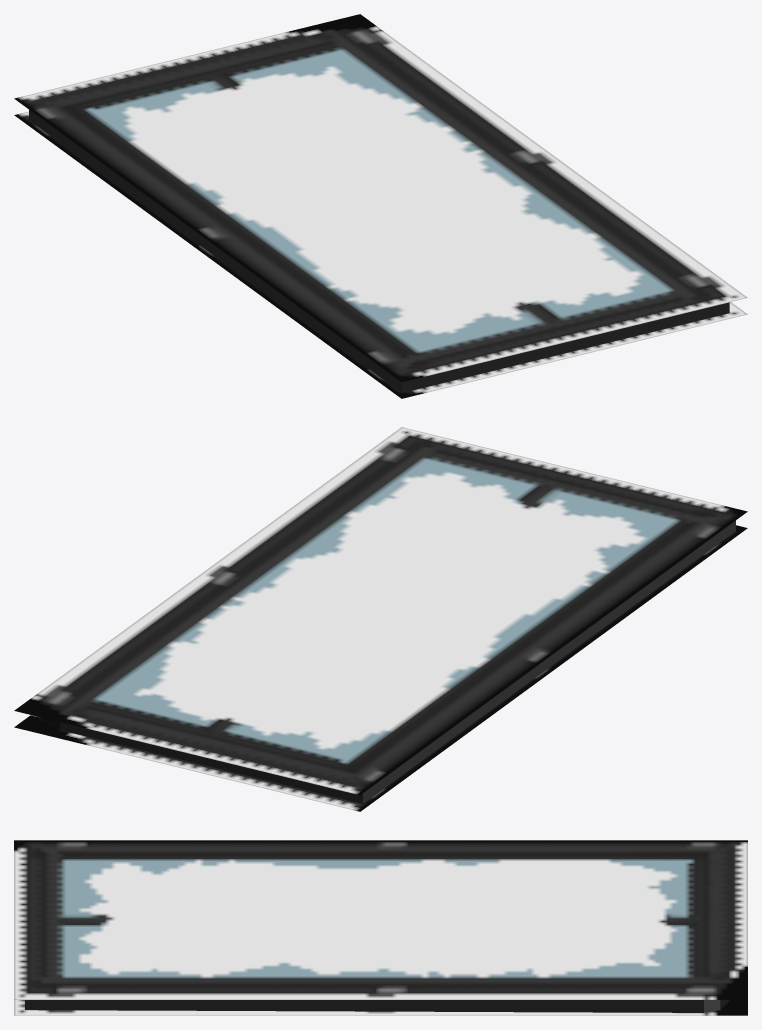
The model's file is pz_native_fixtures_windows_metal_69_frame.obj.
3 renders of one model, top to bottom at view 1: azimuth 30°, elevation 25°; view 2: azimuth 150°, elevation 25°; view 3: azimuth 270°, elevation 25°, orthographic. The views are drawn at different scales.
Parts seen in each view (by area): view 1: pz_native_fixtures_windows_metal_69_frame; view 2: pz_native_fixtures_windows_metal_69_frame; view 3: pz_native_fixtures_windows_metal_69_frame.
Boxes of the visible parts, box(x1,y1,x2,y2) form: pz_native_fixtures_windows_metal_69_frame: box(14, 14, 747, 398); pz_native_fixtures_windows_metal_69_frame: box(14, 427, 747, 811); pz_native_fixtures_windows_metal_69_frame: box(14, 840, 747, 1015).
Bounding box in the file's own units: 0.875 × 0.04 × 1.7.
1 material, 1 textured.
